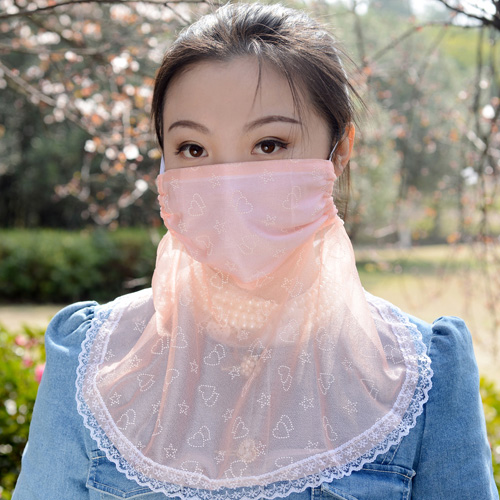face_mask: (158, 56, 331, 290)
